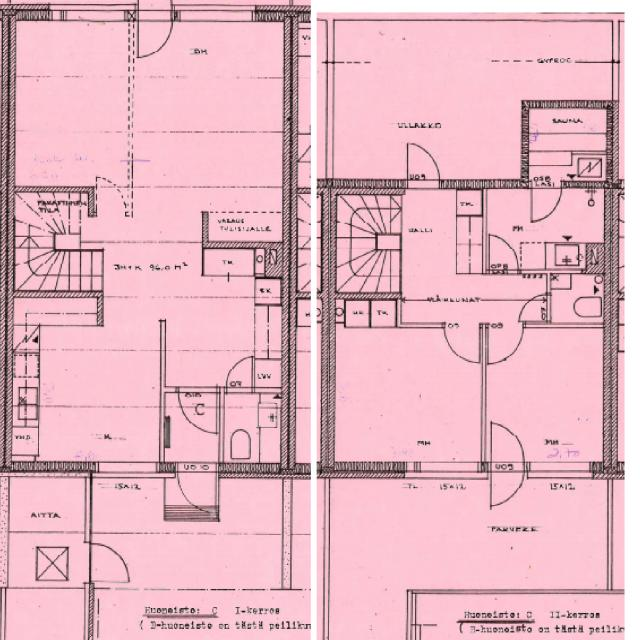door: (176, 462, 216, 520), (490, 464, 524, 517), (490, 427, 524, 480), (179, 387, 217, 434), (137, 4, 171, 56), (83, 545, 129, 583), (407, 143, 440, 189), (444, 324, 480, 366), (488, 324, 523, 365), (531, 179, 562, 221), (491, 241, 518, 274), (227, 360, 253, 393), (522, 295, 552, 322), (137, 0, 171, 20)
